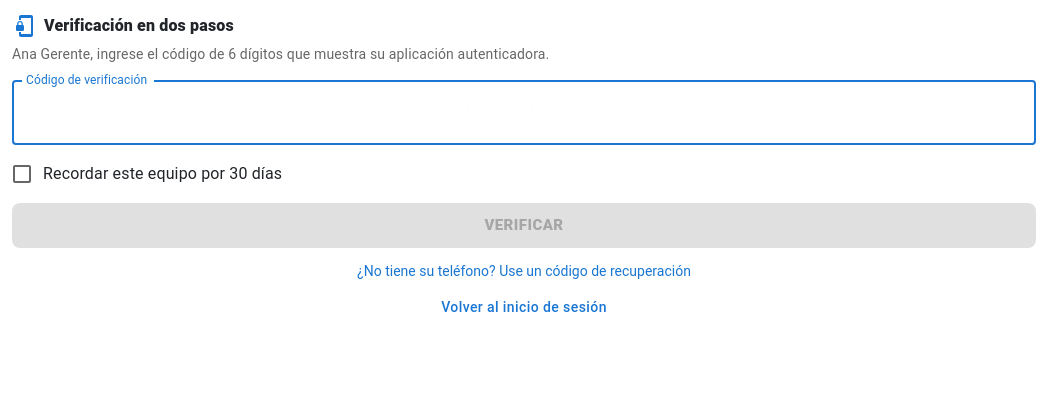
it: MfaCodeStep (segundo paso del login) › código incorrecto: muestra el mensaje del servidor y limpia el campo
Type "000000" into the field labelled "Código de verificación" at (524, 112), box [12,80,1036,145]
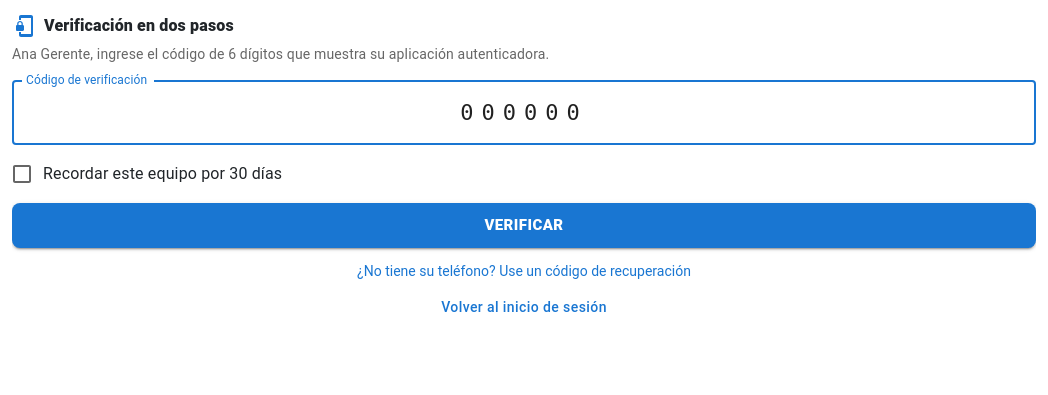
Click the button "Verificar" at (524, 225), box [12,203,1036,248]
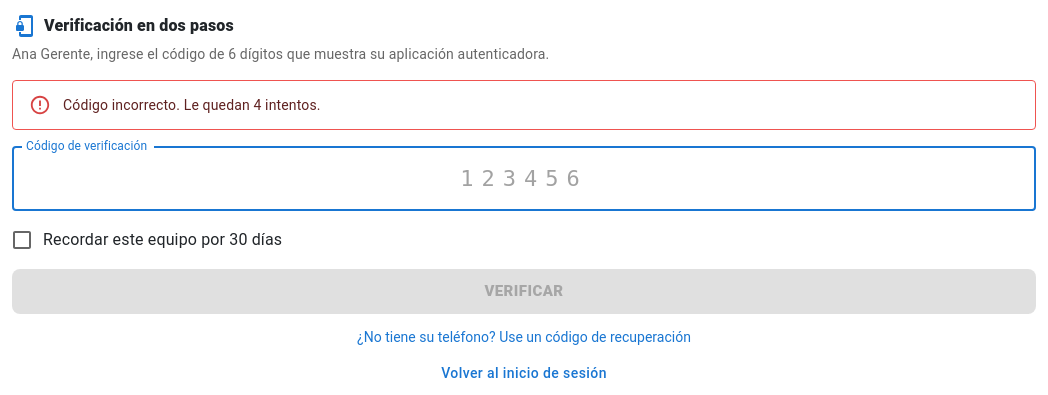
Expected: the text "Código incorrecto. Le quedan 4 intentos." is shown, [63,97,321,113]
Expected: the field labelled "Código de verificación" is empty, [12,146,1036,211]
